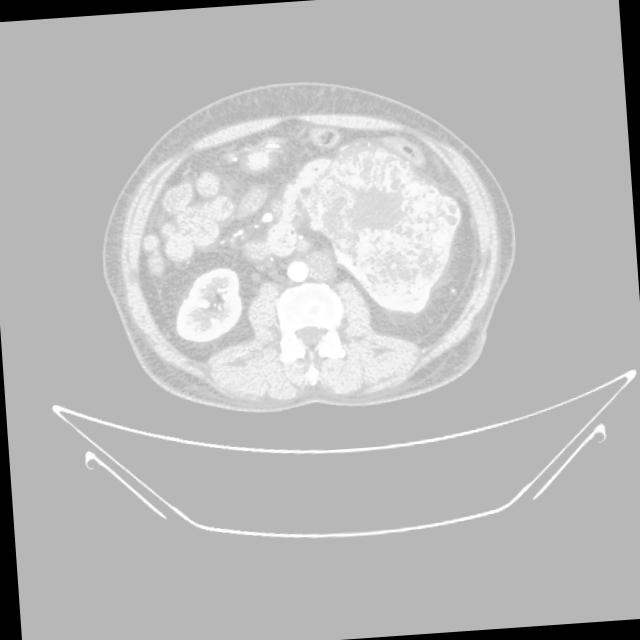TUMOR: (130, 101, 484, 354)
